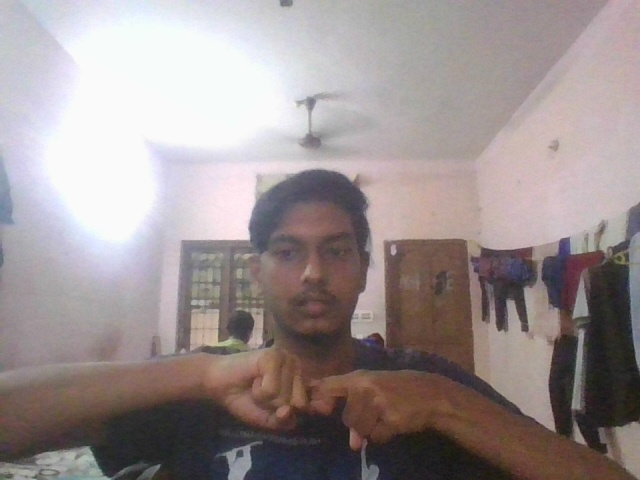friend: (193, 347, 455, 458)
